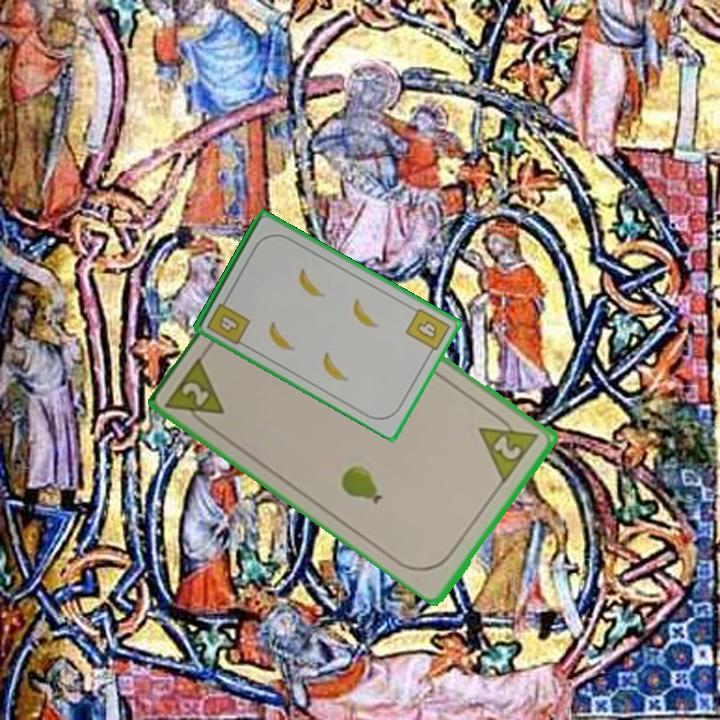2p: (163, 352, 228, 434), (475, 407, 543, 485)
4b: (402, 304, 453, 359), (203, 293, 253, 348)
